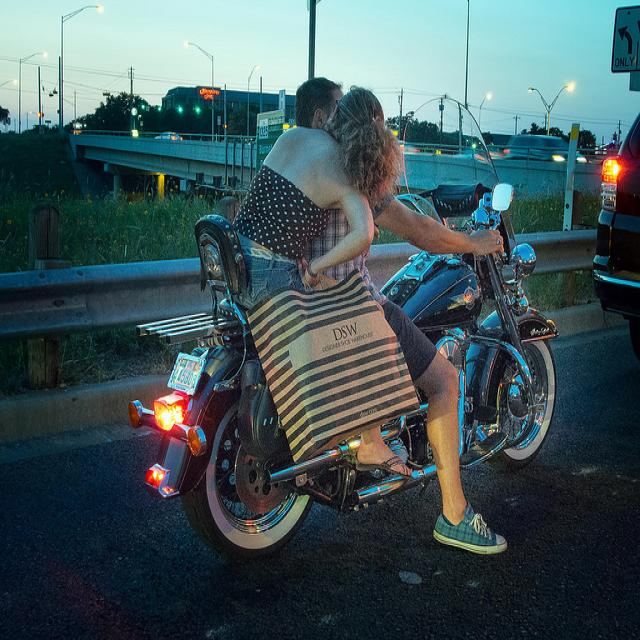motor: (128, 182, 558, 567)
